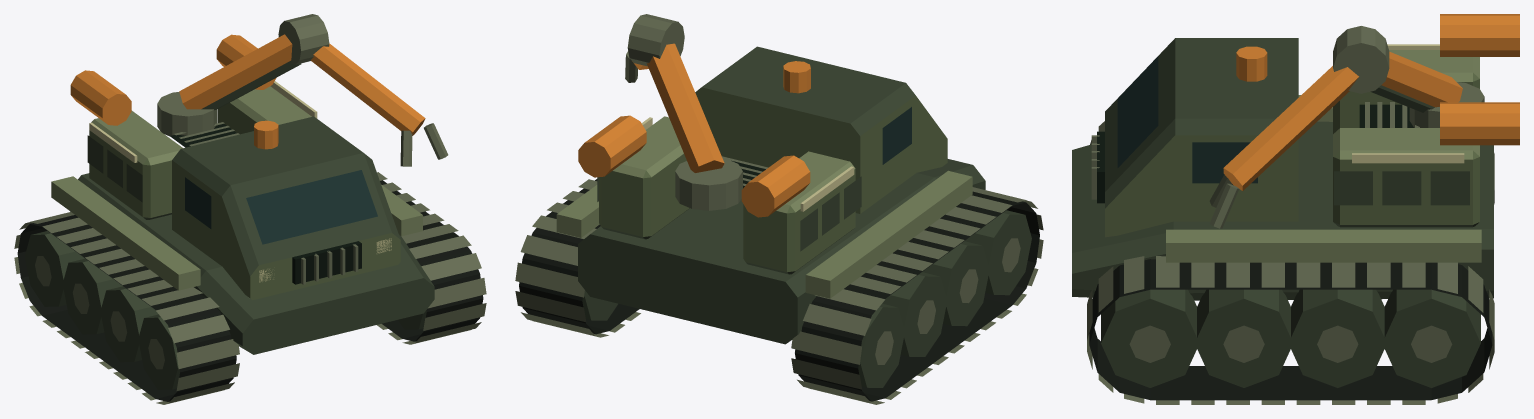
The model's file is repairCrawler_field.glb.
3 renders of one model, left to right at view 1: azimuth 30°, elevation 25°; view 2: azimuth 150°, elevation 25°; view 3: azimuth 270°, elevation 25°, orthographic. The views are drawn at different scales.
Visible parts, largest first — view 1: Body; view 2: Body; view 3: Body.
Boxes of the visible parts, x1=… form: Body: x1=14, y1=14, x2=486, y2=404; Body: x1=515, y1=14, x2=1043, y2=404; Body: x1=1072, y1=14, x2=1519, y2=404.
Bounding box in the file's own units: 7.2 × 5.66 × 7.02.
Materials: 1 (1 with a texture image).
